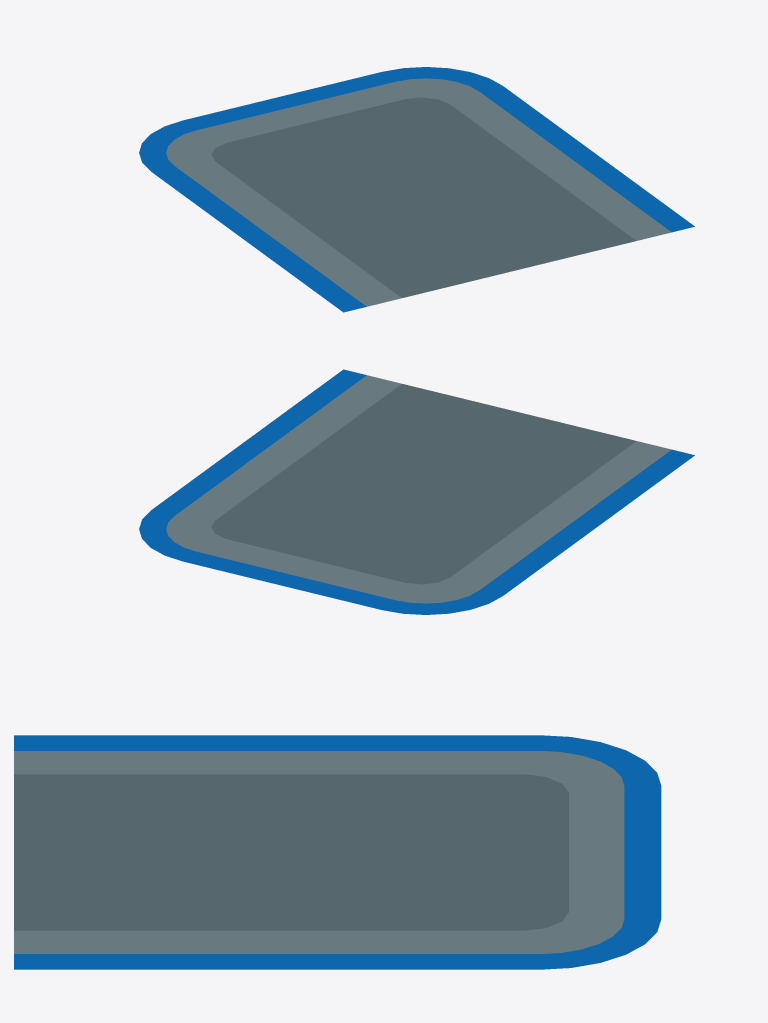
Rendered from Ceiling_type_C_020.fbx.
The picture shows the model from 3 angles, top to bottom: view 1: azimuth 30°, elevation 25°; view 2: azimuth 150°, elevation 25°; view 3: azimuth 270°, elevation 25°; orthographic projection. The views are drawn at different scales.
Parts seen in each view (by area): view 1: Ceiling_type_C_020; view 2: Ceiling_type_C_020; view 3: Ceiling_type_C_020.
Boxes of the visible parts, left/top/right/bottom form: Ceiling_type_C_020: left=139, top=67, right=694, bottom=312; Ceiling_type_C_020: left=139, top=369, right=694, bottom=614; Ceiling_type_C_020: left=14, top=735, right=661, bottom=969.
Bounding box in the file's own units: 400 × 400 × 5.66.
